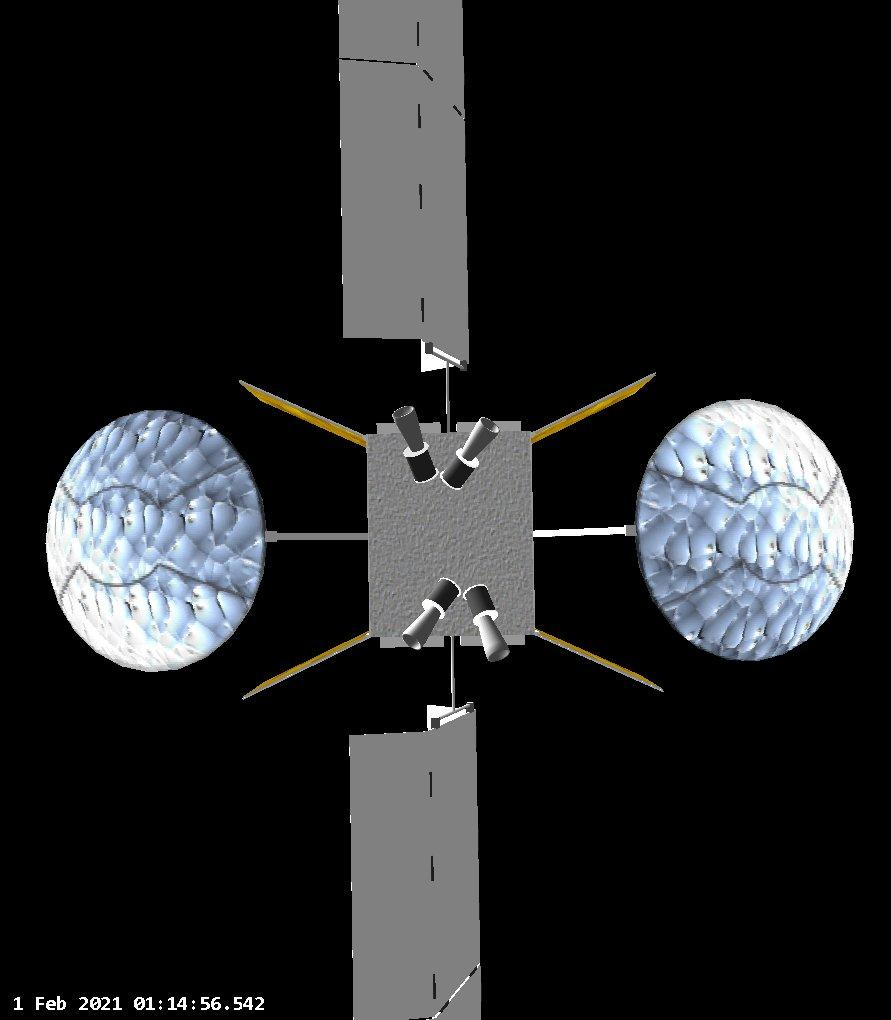antenna: (43, 408, 269, 676), (633, 395, 857, 663)
body: (361, 431, 540, 639)
solar: (332, 0, 473, 374), (343, 699, 488, 1020), (525, 367, 661, 447), (239, 625, 372, 703), (232, 375, 370, 448), (526, 625, 669, 695)
thruster: (399, 604, 441, 651), (463, 415, 501, 464), (391, 400, 426, 452), (477, 615, 511, 666)
